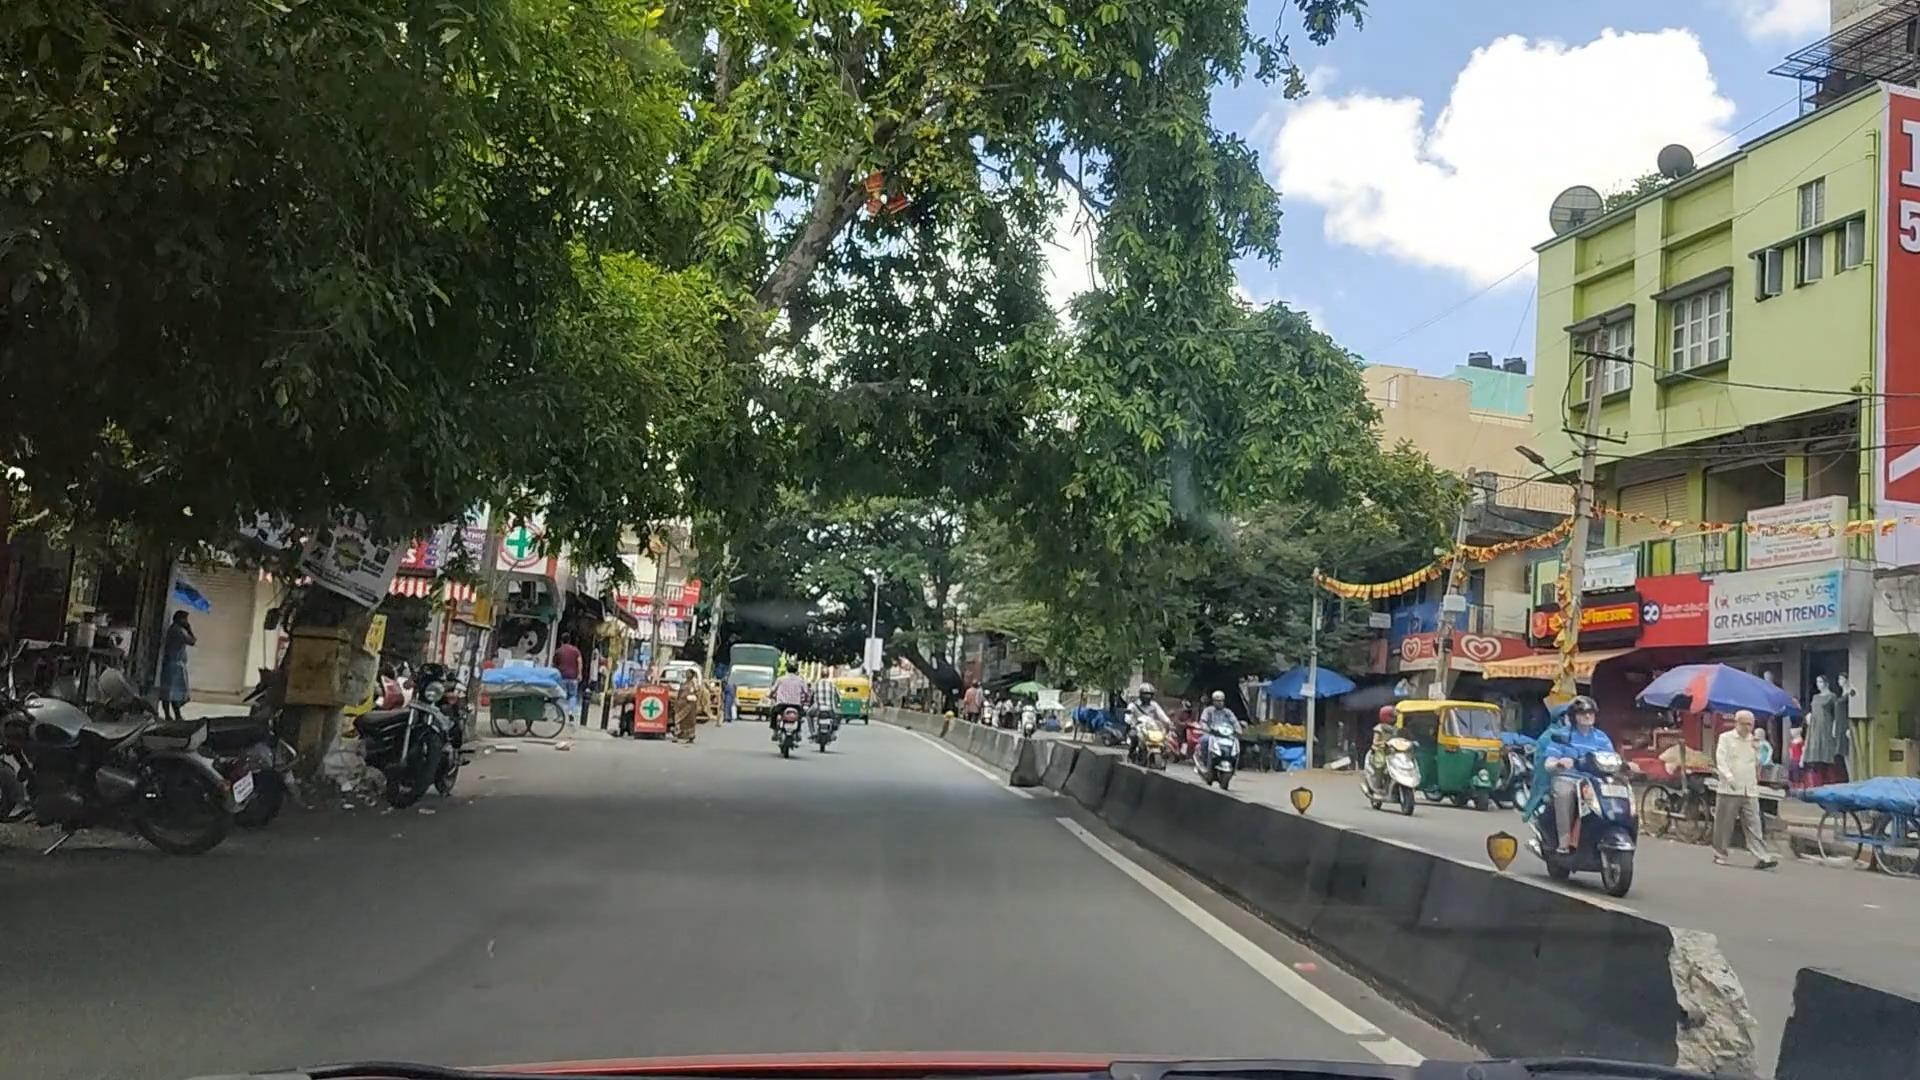RoadDamages: (439, 902, 537, 1006)
